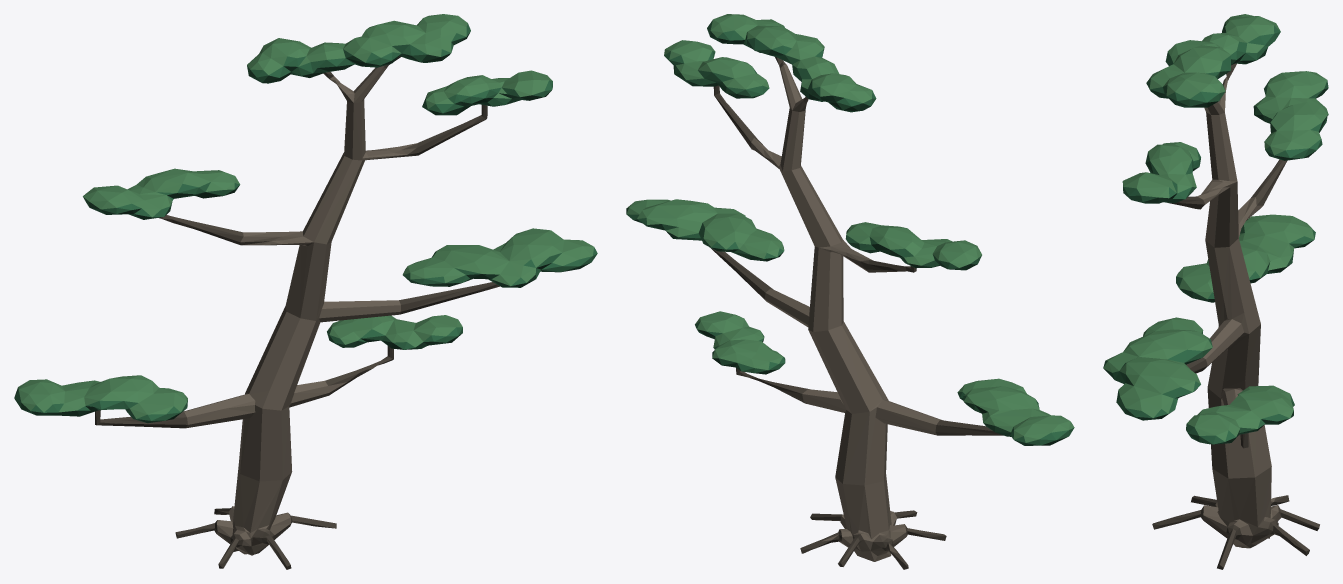
The model's file is ancient-pine-820-lod1.glb.
The picture shows the model from 3 angles, left to right: view 1: azimuth 30°, elevation 25°; view 2: azimuth 150°, elevation 25°; view 3: azimuth 270°, elevation 25°; orthographic projection. The views are drawn at different scales.
Parts seen in each view (by area): view 1: n12.005, n8.005, n11.005, n9.005, n10.005; view 2: n8.005, n12.005, n11.005, n9.005, n10.005; view 3: n12.005, n8.005, n11.005, n9.005, n10.005.
Part boxes in pixels (x1,y1,x2,y2): n12.005: (18,14,593,418); n8.005: (183,64,417,555); n11.005: (14,23,597,420); n9.005: (95,56,499,569); n10.005: (22,33,589,423); n8.005: (751,57,942,561); n12.005: (626,14,1074,442); n11.005: (626,20,1073,445); n9.005: (709,57,1003,569); n10.005: (634,37,1067,445); n12.005: (1103,14,1328,441); n8.005: (1197,77,1281,548); n11.005: (1103,23,1328,444); n9.005: (1152,63,1319,569); n10.005: (1103,47,1328,444).
Bounding box in the file's own units: 5.77 × 5.42 × 1.98.
